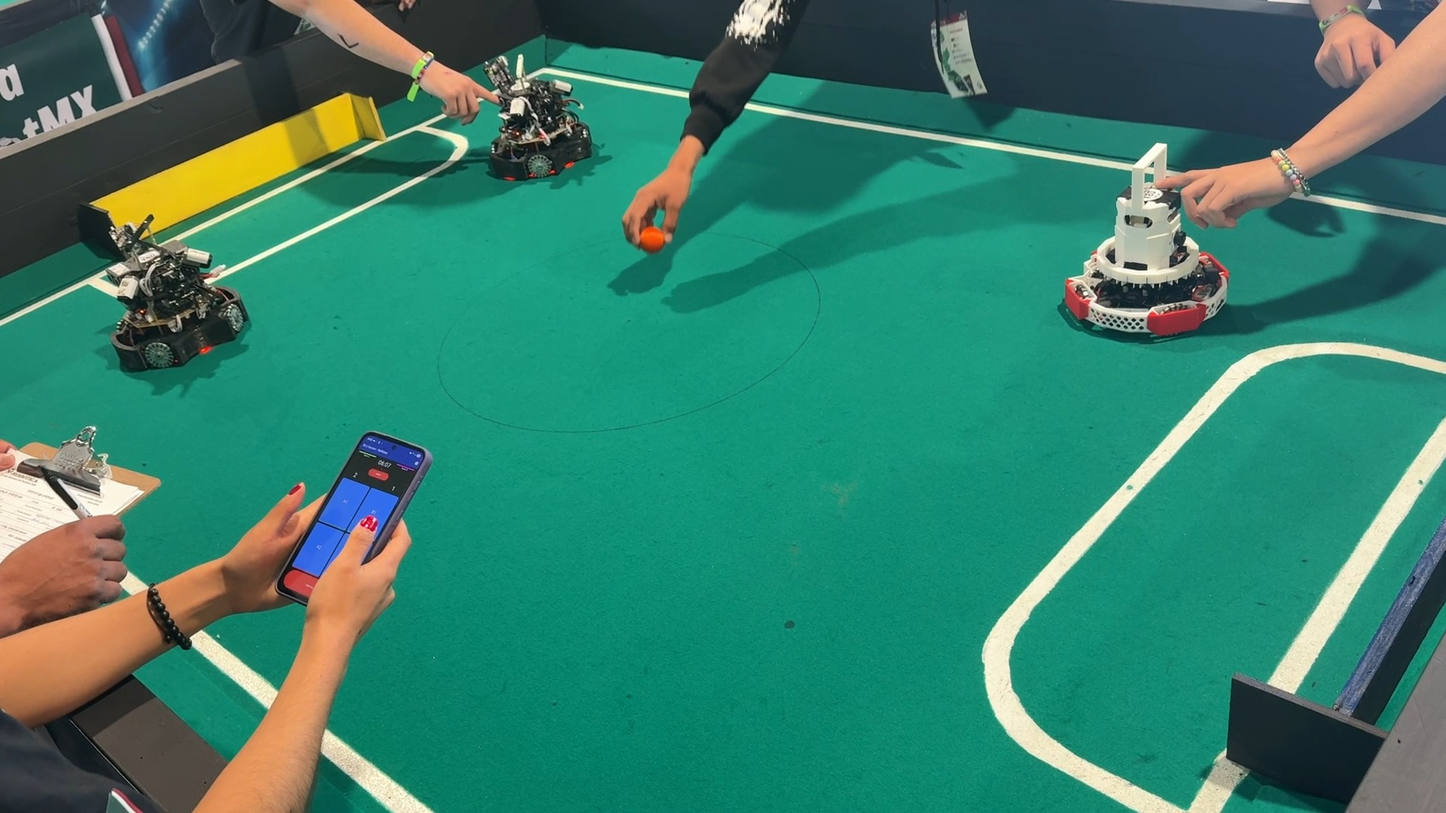Robot: (1057, 136, 1249, 359), (82, 208, 267, 400), (464, 30, 619, 198)
pelota: (625, 220, 673, 257)
